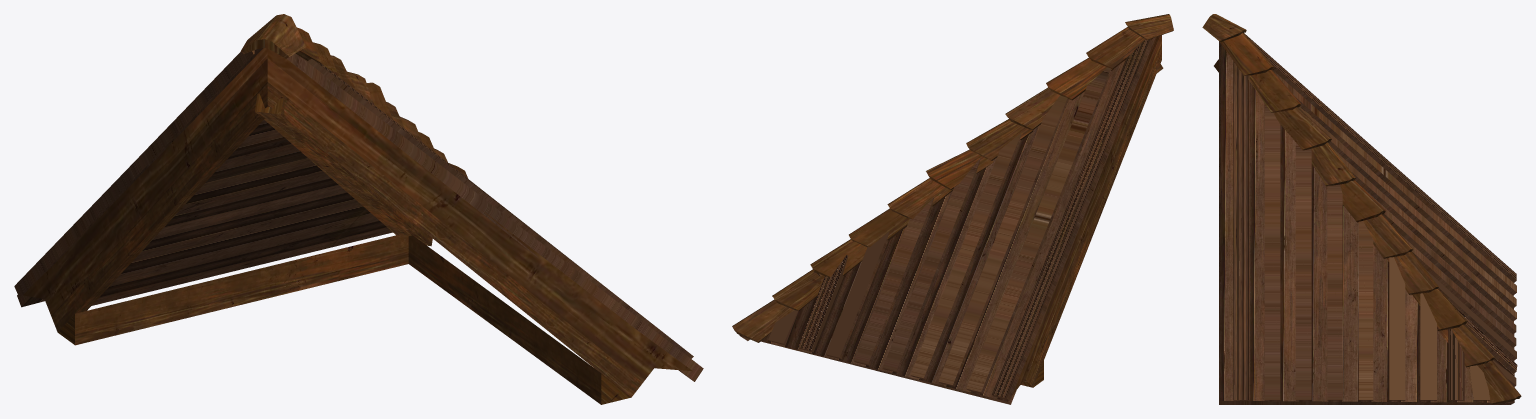
The picture shows the model from 3 angles, left to right: view 1: azimuth 30°, elevation 25°; view 2: azimuth 150°, elevation 25°; view 3: azimuth 270°, elevation 25°; orthographic projection. The views are drawn at different scales.
Parts seen in each view (by area): view 1: SM_BB_T2_Roof_Large_Hip_LOD0; view 2: SM_BB_T2_Roof_Large_Hip_LOD0; view 3: SM_BB_T2_Roof_Large_Hip_LOD0.
Part boxes in pixels (x1=…): SM_BB_T2_Roof_Large_Hip_LOD0: x1=14, y1=14, x2=703, y2=404; SM_BB_T2_Roof_Large_Hip_LOD0: x1=732, y1=14, x2=1173, y2=404; SM_BB_T2_Roof_Large_Hip_LOD0: x1=1202, y1=14, x2=1521, y2=404.
Bounding box in the file's own units: 3.9 × 3.58 × 3.88.
Materials: 2 (2 with a texture image).
